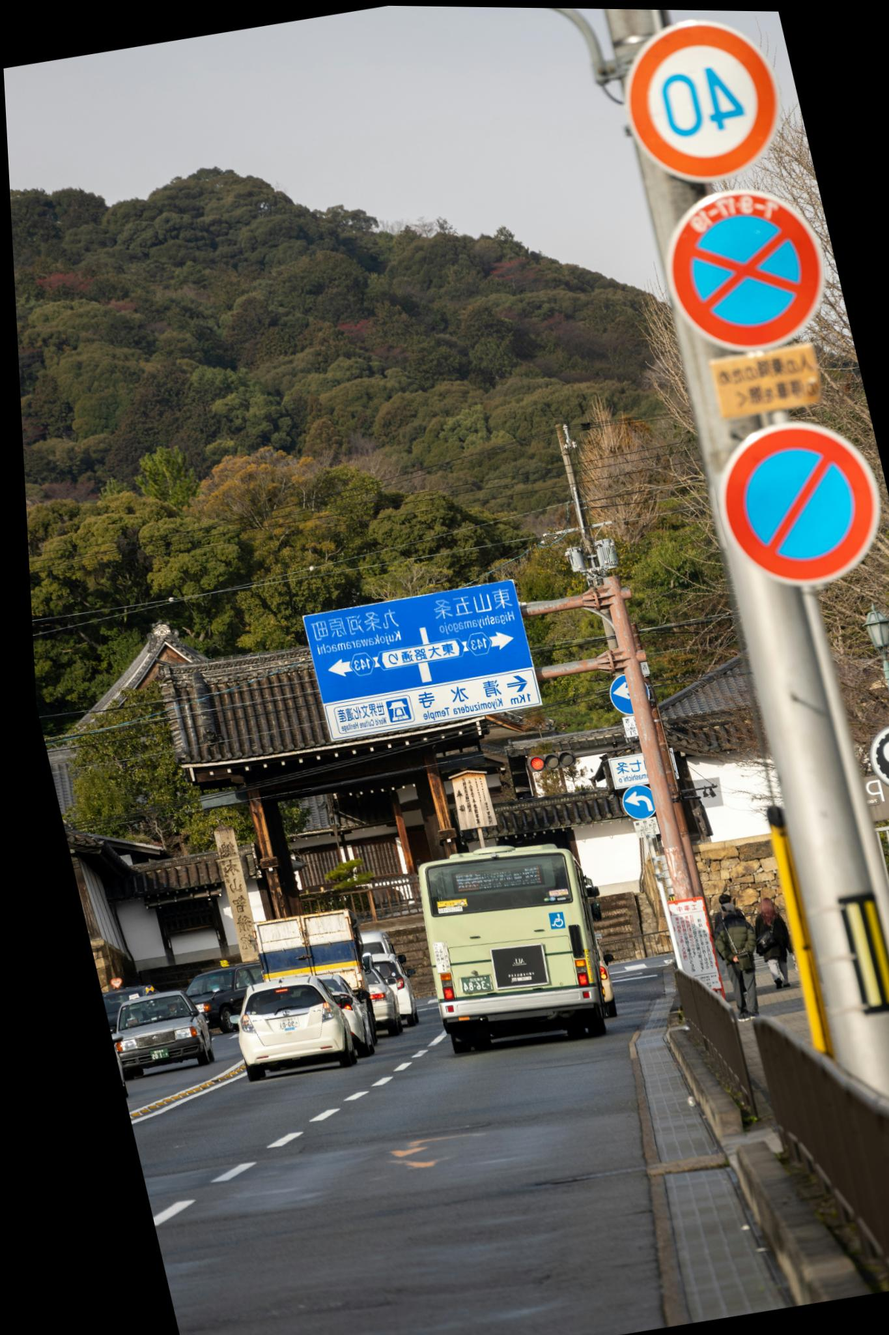stop_sign: (640, 174, 841, 368)
